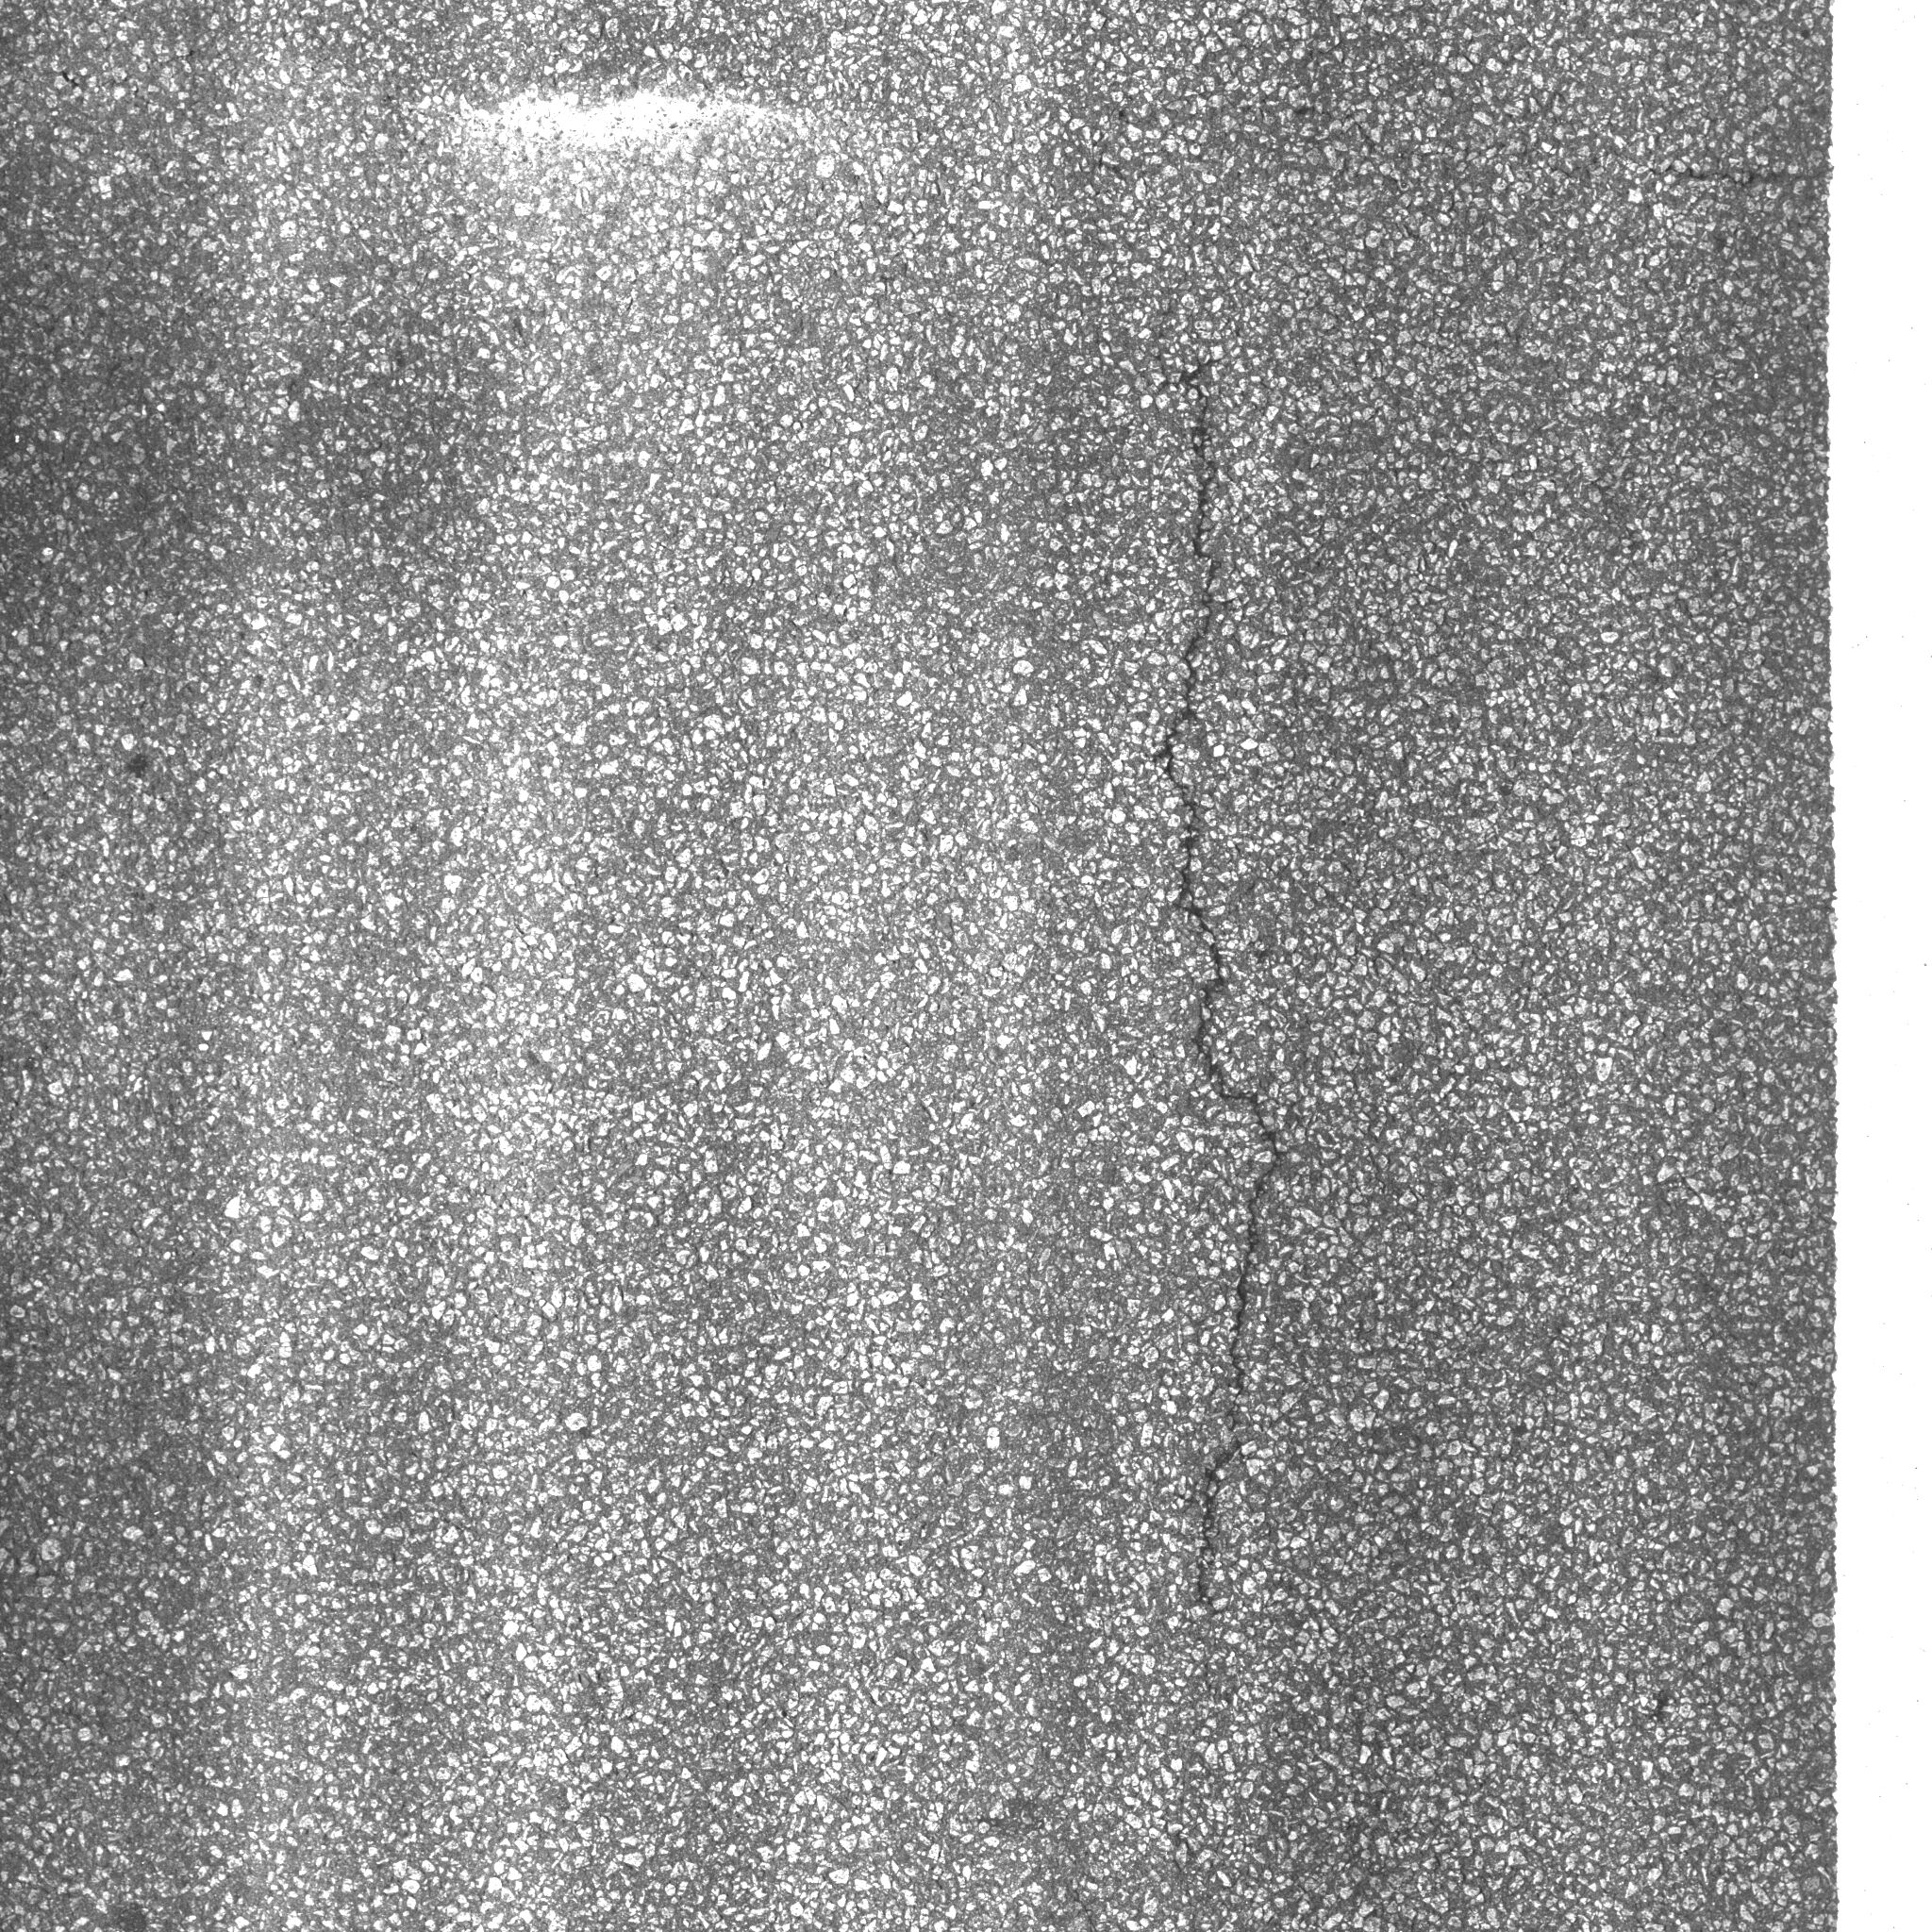longitudinal: (1081, 317, 1391, 1697)
